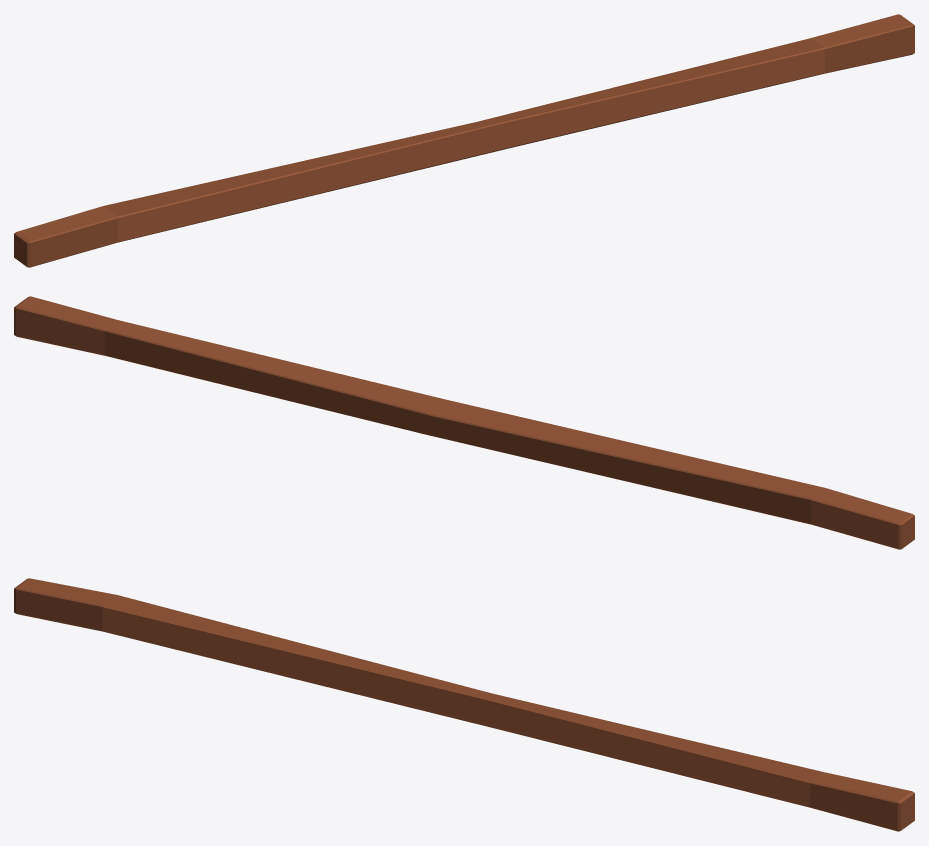
The model's file is Big Wooden beam 1.fbx.
3 views of the same model, one above another, from view 1: azimuth 30°, elevation 25°; view 2: azimuth 150°, elevation 25°; view 3: azimuth 330°, elevation 25° (orthographic).
Visible parts, largest first — view 1: Big Wooden beam 1; view 2: Big Wooden beam 1; view 3: Big Wooden beam 1.
Part boxes in pixels (left/top/right/bottom): Big Wooden beam 1: left=14, top=14, right=914, bottom=267; Big Wooden beam 1: left=14, top=296, right=914, bottom=549; Big Wooden beam 1: left=14, top=578, right=914, bottom=831.
Size of the model in its own units: 864 by 30.24 by 28.35.
